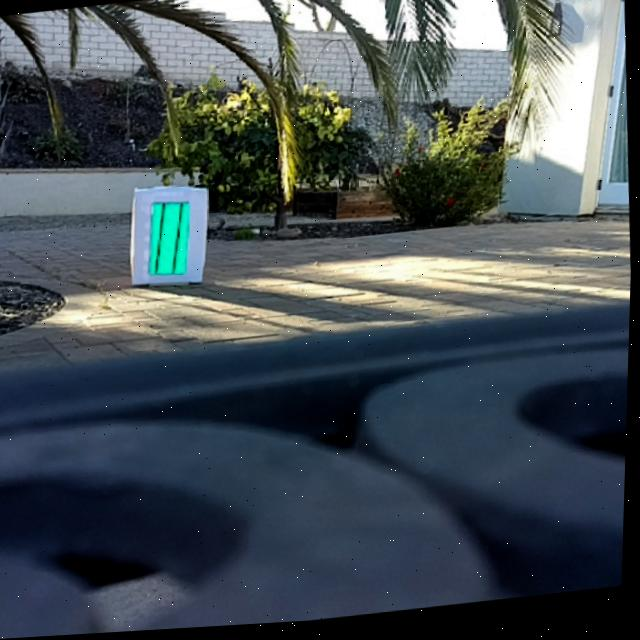led: (148, 201, 192, 279)
